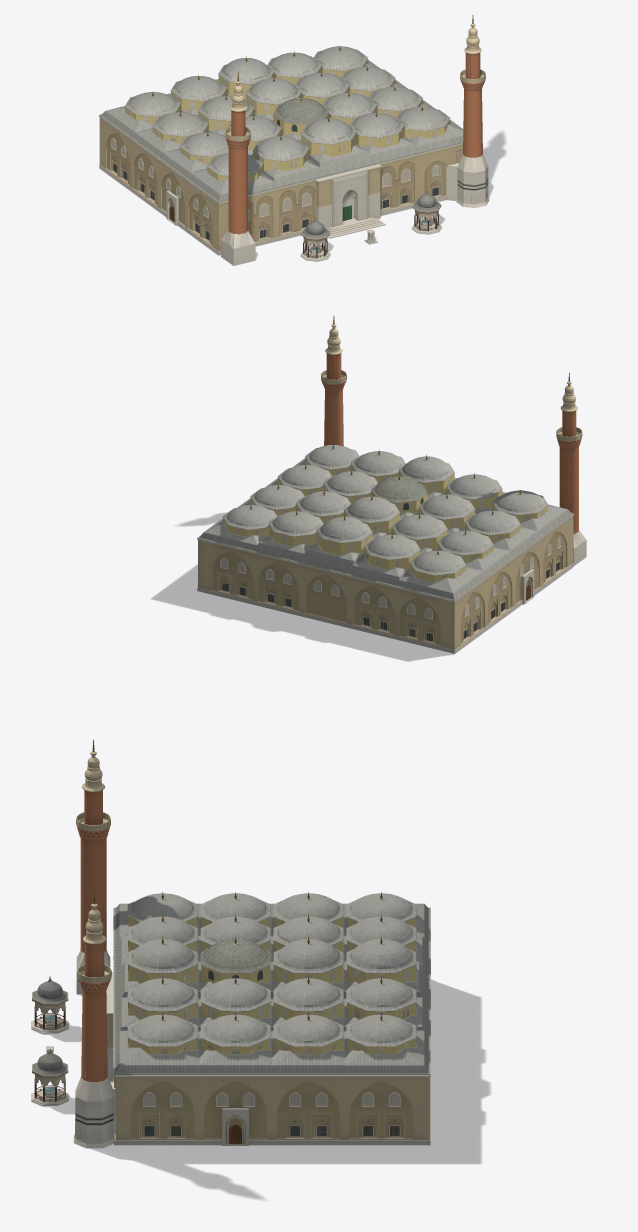
File: ulu-cami_v32_harita_pisik.glb
3 views of the same model, one above another, from view 1: azimuth 30°, elevation 25°; view 2: azimuth 150°, elevation 25°; view 3: azimuth 270°, elevation 25° (orthographic). The views are drawn at different scales.
Parts seen in each view (by area): view 1: Kubbeler_19, Cati, Cephe_Kuzey, Cephe_Dogu, Minare_1, Minare_2, Pencere_Girintileri, Tac_Kapi, Giris_Cikintili_Blok, Sadirvan_Kubbe, Kasnak_Pencereleri, Avlu_Sadirvan_Bati (+6 smaller); view 2: Kubbeler_19, Cephe_Guney, Cati, Harita_Golge, Cephe_Dogu, Pencere_Girintileri, Minare_2, Minare_1, Mermer_Bant, Sadirvan_Kubbe, Kasnak_Pencereleri, Silme_Ust; view 3: Kubbeler_19, Harita_Golge, Cephe_Bati, Cati, Minare_1, Minare_2, Pencere_Girintileri, Sadirvan_Kubbe, Mermer_Bant, Kasnak_Pencereleri, Avlu_Sadirvan_Bati, Avlu_Sadirvan_Dogu (+4 smaller).
Part boxes in pixels (bbox=[...]): Kubbeler_19: bbox=[125, 46, 450, 181]; Cati: bbox=[99, 59, 463, 202]; Cephe_Kuzey: bbox=[218, 144, 462, 251]; Cephe_Dogu: bbox=[100, 118, 217, 250]; Minare_1: bbox=[446, 15, 489, 207]; Minare_2: bbox=[221, 72, 255, 265]; Pencere_Girintileri: bbox=[110, 152, 443, 243]; Tac_Kapi: bbox=[327, 170, 385, 238]; Giris_Cikintili_Blok: bbox=[315, 164, 381, 228]; Sadirvan_Kubbe: bbox=[273, 98, 329, 135]; Kasnak_Pencereleri: bbox=[128, 63, 447, 181]; Avlu_Sadirvan_Bati: bbox=[411, 191, 441, 234]; Kubbeler_19: bbox=[223, 445, 548, 582]; Cephe_Guney: bbox=[198, 540, 454, 649]; Cati: bbox=[197, 458, 573, 600]; Harita_Golge: bbox=[151, 513, 523, 661]; Cephe_Dogu: bbox=[455, 516, 572, 649]; Pencere_Girintileri: bbox=[217, 550, 563, 644]; Minare_2: bbox=[556, 372, 586, 565]; Minare_1: bbox=[321, 315, 346, 446]; Mermer_Bant: bbox=[197, 563, 573, 653]; Sadirvan_Kubbe: bbox=[371, 476, 427, 513]; Kasnak_Pencereleri: bbox=[225, 461, 544, 580]; Silme_Ust: bbox=[197, 514, 574, 602]; Kubbeler_19: bbox=[127, 893, 416, 1054]; Harita_Golge: bbox=[32, 980, 490, 1199]; Cephe_Bati: bbox=[115, 1077, 428, 1144]; Cati: bbox=[113, 903, 430, 1074]; Minare_1: bbox=[74, 891, 115, 1148]; Minare_2: bbox=[76, 739, 110, 994]; Pencere_Girintileri: bbox=[139, 1113, 405, 1138]; Sadirvan_Kubbe: bbox=[200, 939, 270, 983]; Mermer_Bant: bbox=[113, 1077, 430, 1145]; Kasnak_Pencereleri: bbox=[128, 917, 416, 1053]; Avlu_Sadirvan_Bati: bbox=[31, 1049, 68, 1105]; Avlu_Sadirvan_Dogu: bbox=[31, 976, 68, 1033].
Bounding box in the file's own units: 103 × 48.1 × 107.
Materials: 2 (2 with a texture image).
